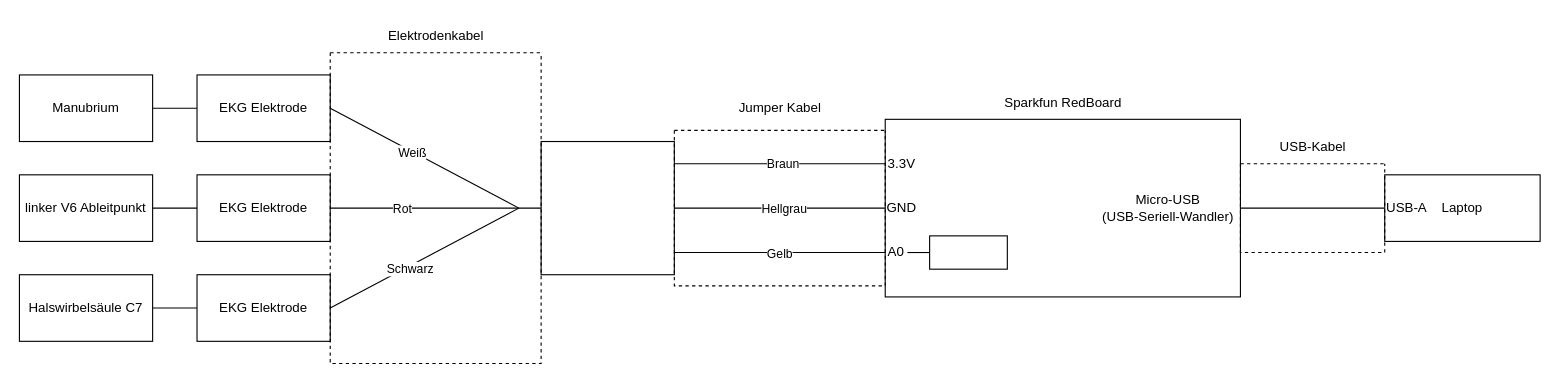
Some shapes in this 1560 by 383 pixel diagram are drawn without their labels. Each missing label, with the centre of its shape:
ADC Bus: point (968, 252)
EMG-Sensor: point (607, 207)
